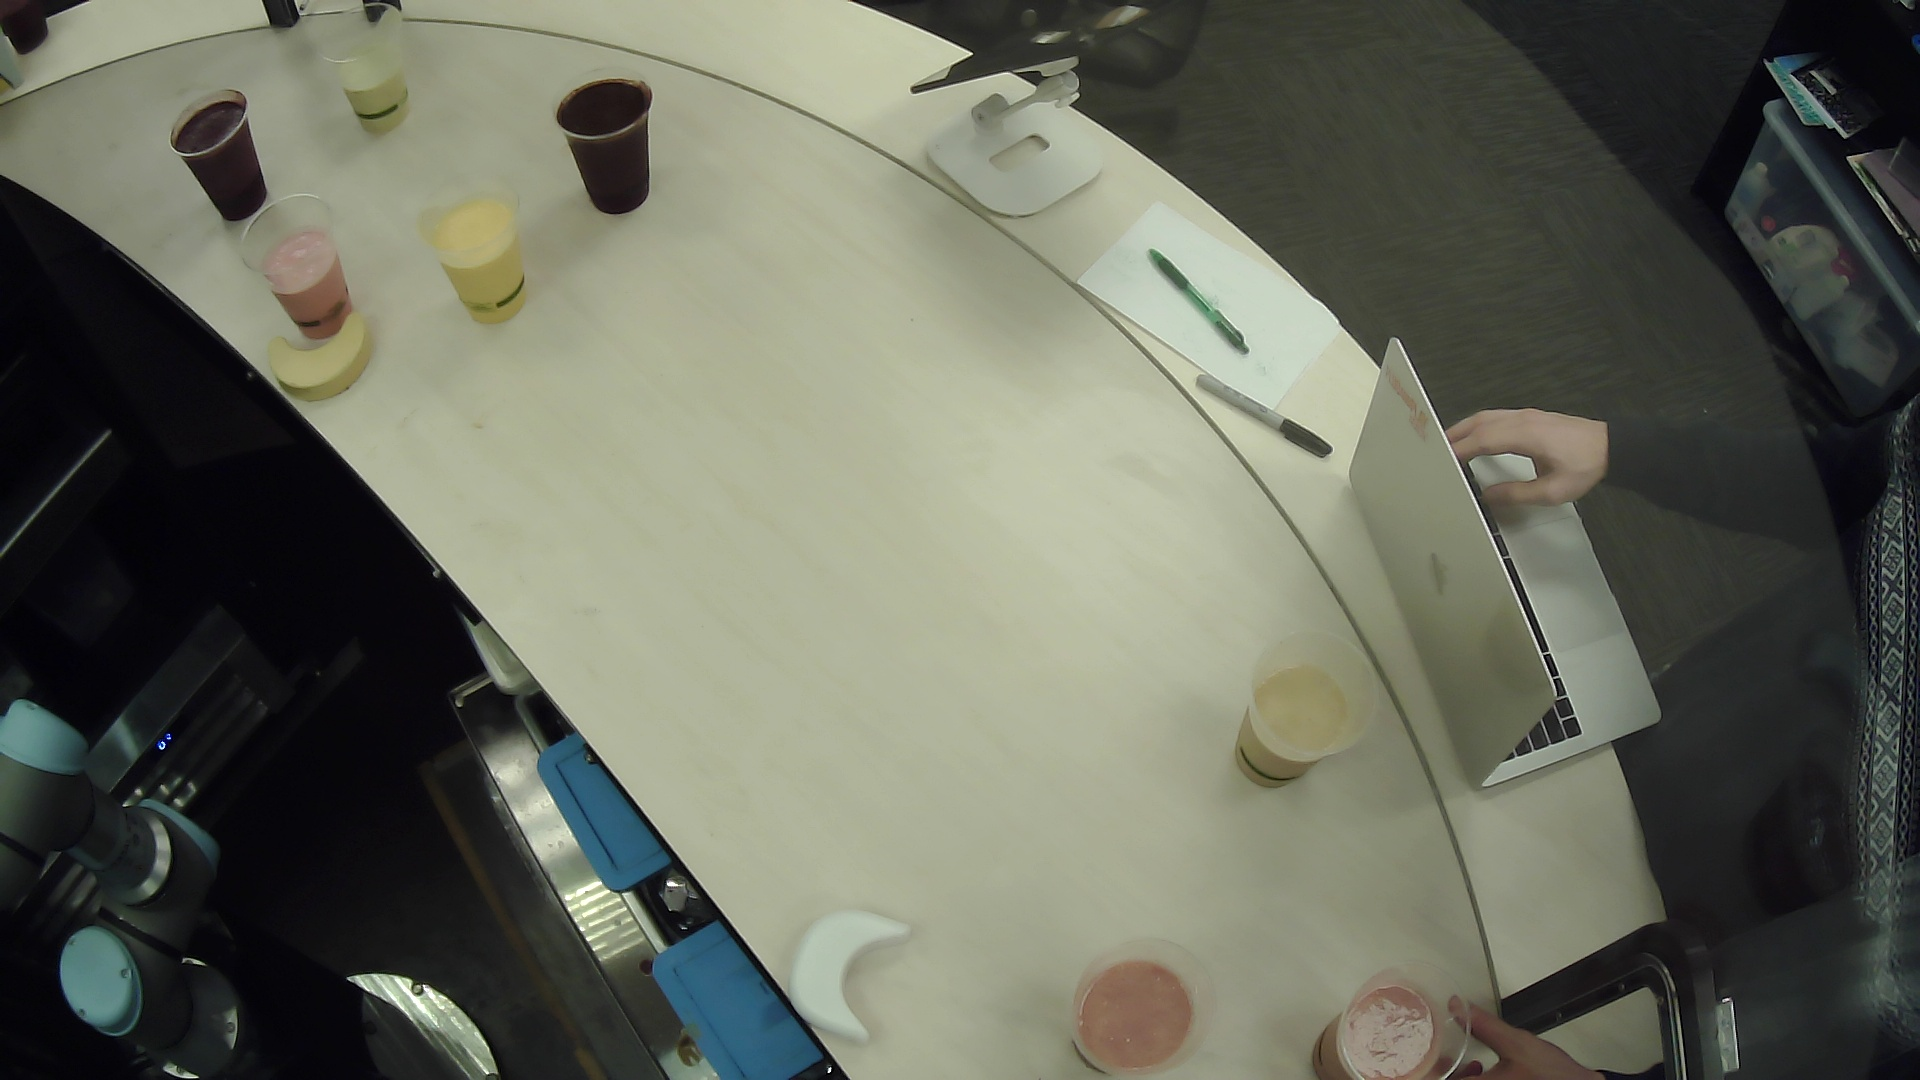Deliver: (767, 891, 943, 1067), (253, 298, 415, 409)
Full_cup: (1234, 591, 1378, 833), (1038, 926, 1229, 1080), (1284, 948, 1484, 1080), (533, 65, 673, 229), (407, 173, 546, 338), (233, 193, 369, 345), (305, 1, 430, 150), (153, 80, 277, 231)
